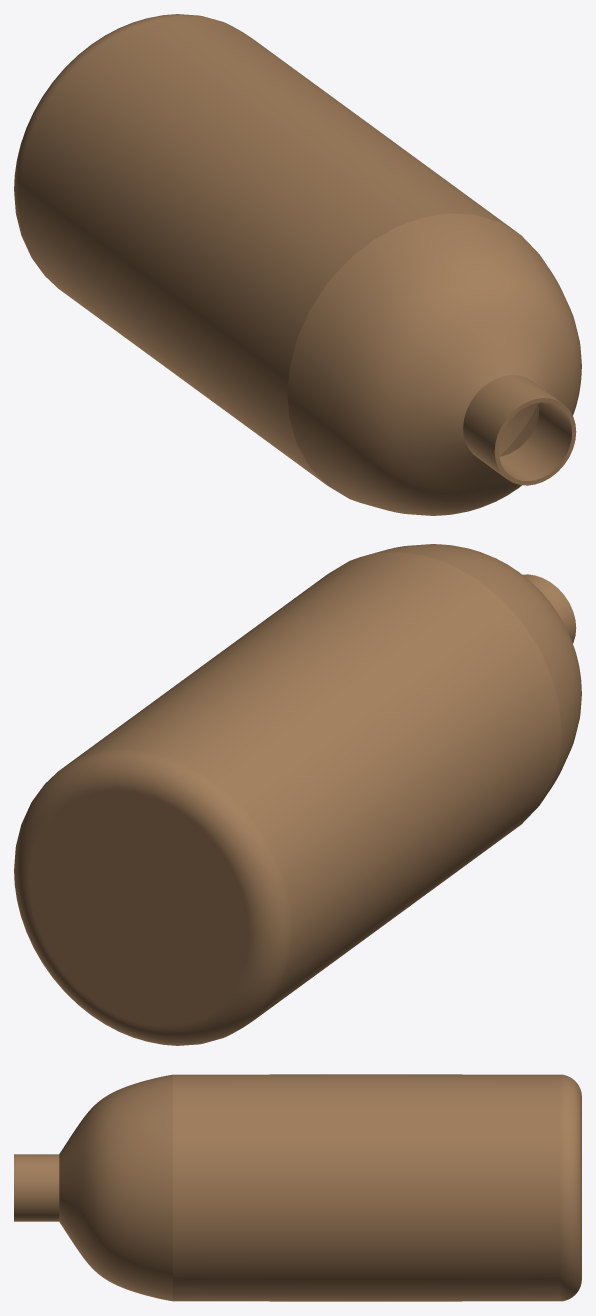
File: Big Bottle (No Lid).fbx
3 renders of one model, top to bottom at view 1: azimuth 30°, elevation 25°; view 2: azimuth 150°, elevation 25°; view 3: azimuth 270°, elevation 25°, orthographic. The views are drawn at different scales.
Visible parts, largest first — view 1: Body1; view 2: Body1; view 3: Body1.
Part boxes in pixels (x1,y1,x2,y2): Body1: [14, 14, 581, 515]; Body1: [14, 544, 581, 1045]; Body1: [14, 1074, 581, 1301].
Size of the model in its own units: 100 by 100 by 250.
